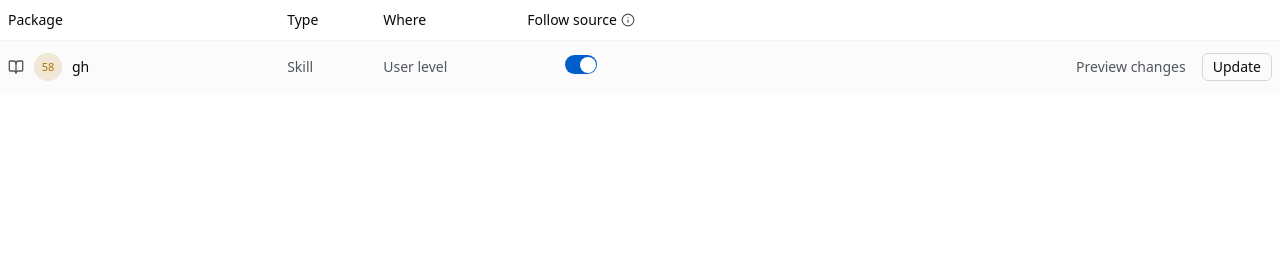
it: the findings behind a row's score › opens them from the score, and keeps them out of the row until asked
Expected: the text "SKILL.md:20" is not shown
What coordinates should you click on to do the following:
click the button "58"
I would click on:
 (48, 66)
Its box is [34,52,62,80].
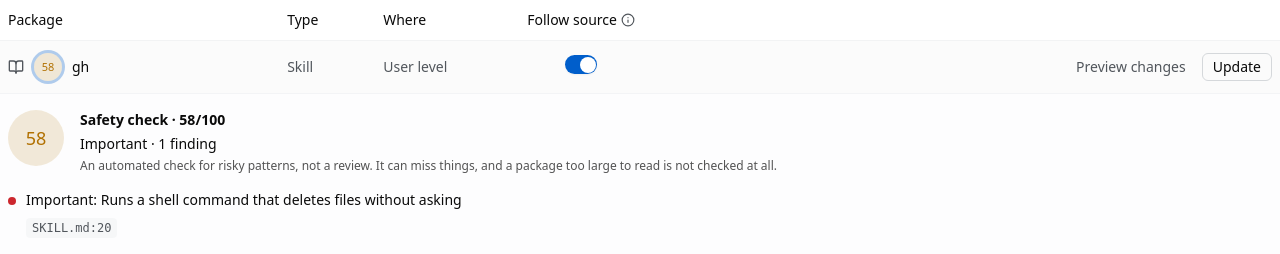
Now the text "SKILL.md:20" is shown, box [26,218,118,238]
Now the text "58/100" is shown, box [80,110,225,128]
Now the text "An automated check for risky patterns, not a review. It can miss things, and a package too large to read is not checked at all." is shown, box [80,156,777,174]
